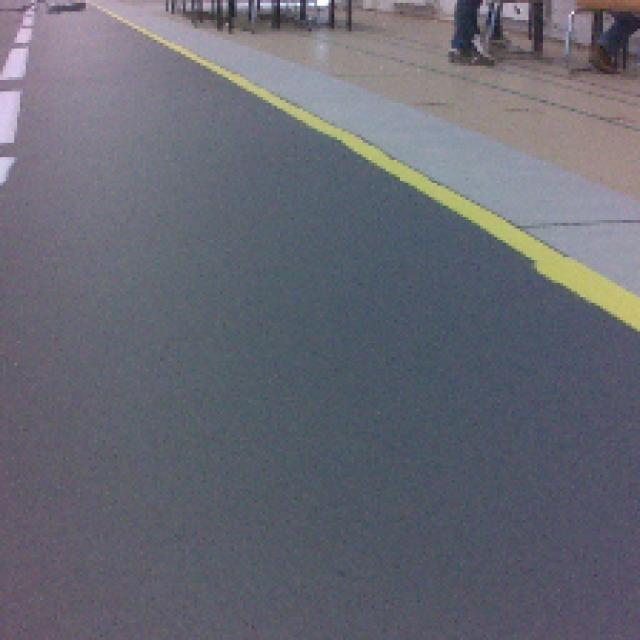Pedestrian crosswalk: (327, 130, 640, 330)
